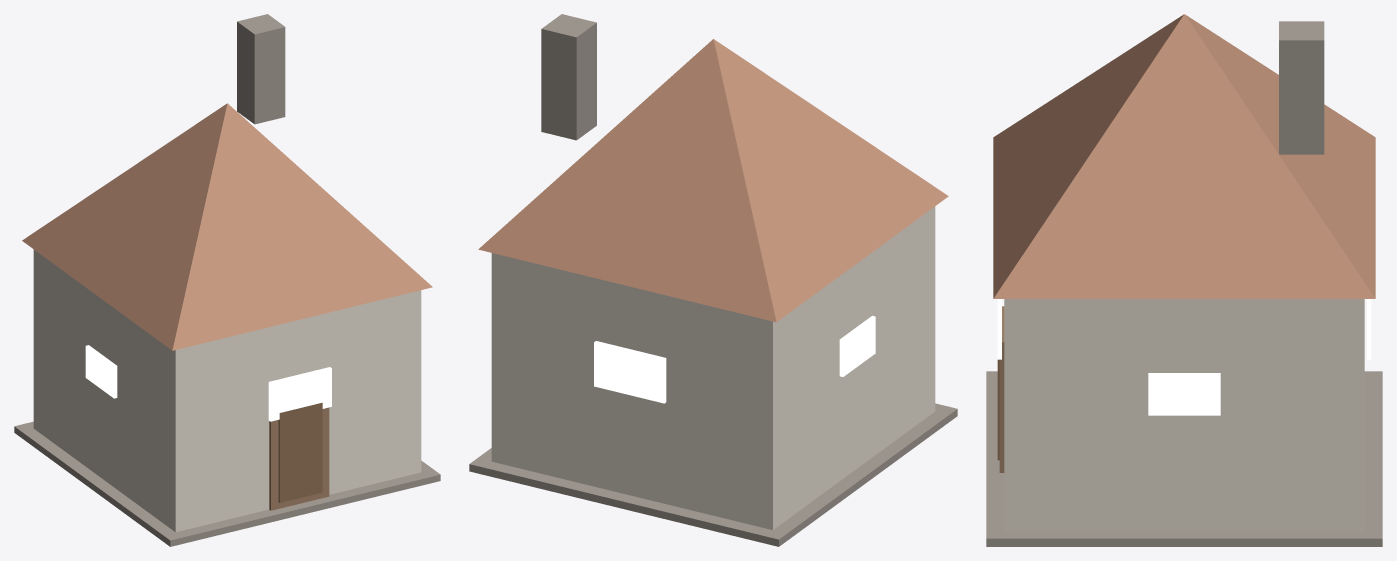
File: VillageHouse.fbx
3 views of the same model, side by side, from view 1: azimuth 30°, elevation 25°; view 2: azimuth 150°, elevation 25°; view 3: azimuth 270°, elevation 25° (orthographic). The views are drawn at different scales.
Parts seen in each view (by area): view 1: VillageHouse; view 2: VillageHouse; view 3: VillageHouse.
Part boxes in pixels (<box>): VillageHouse: <box>14,14,440,546</box>; VillageHouse: <box>469,14,957,546</box>; VillageHouse: <box>986,14,1382,546</box>.
Size of the model in its own units: 4.4 by 5.9 by 4.4.
